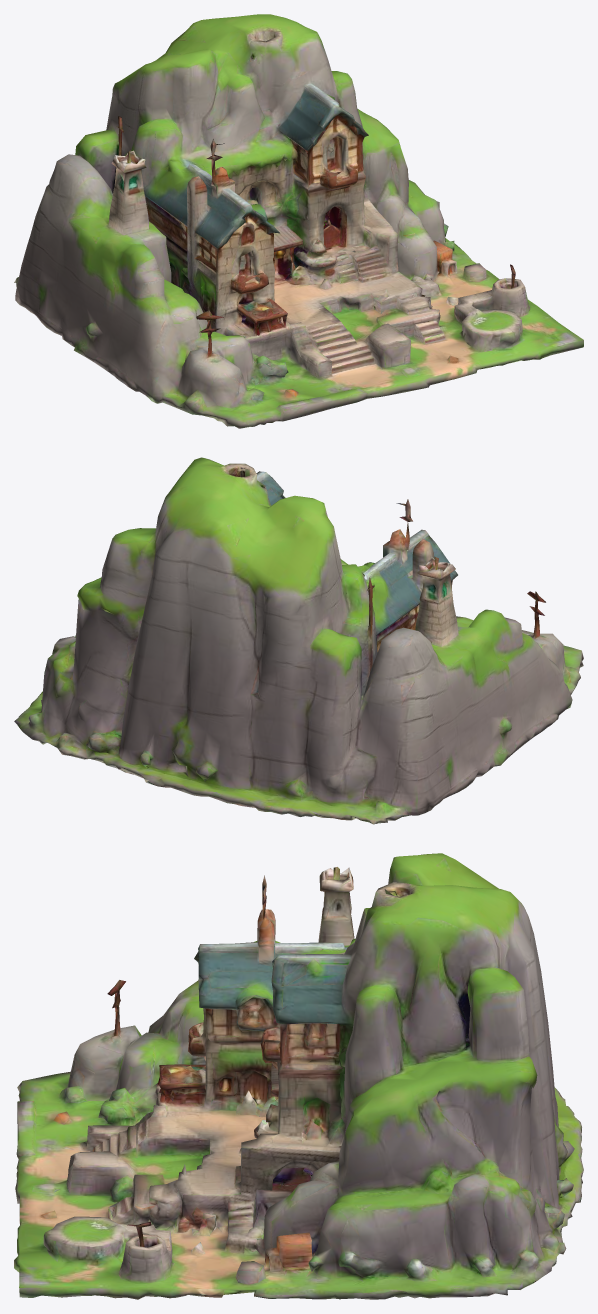
The model's file is housing.glb.
3 views of the same model, one above another, from view 1: azimuth 30°, elevation 25°; view 2: azimuth 150°, elevation 25°; view 3: azimuth 270°, elevation 25° (orthographic). The views are drawn at different scales.
Parts seen in each view (by area): view 1: Mesh_0; view 2: Mesh_0; view 3: Mesh_0.
Boxes of the visible parts, x1=… form: Mesh_0: x1=14, y1=14, x2=583, y2=428; Mesh_0: x1=14, y1=457, x2=583, y2=824; Mesh_0: x1=14, y1=853, x2=583, y2=1299.
Size of the model in its own units: 1.89 by 1.14 by 1.9.
Materials: 1 (1 with a texture image).
